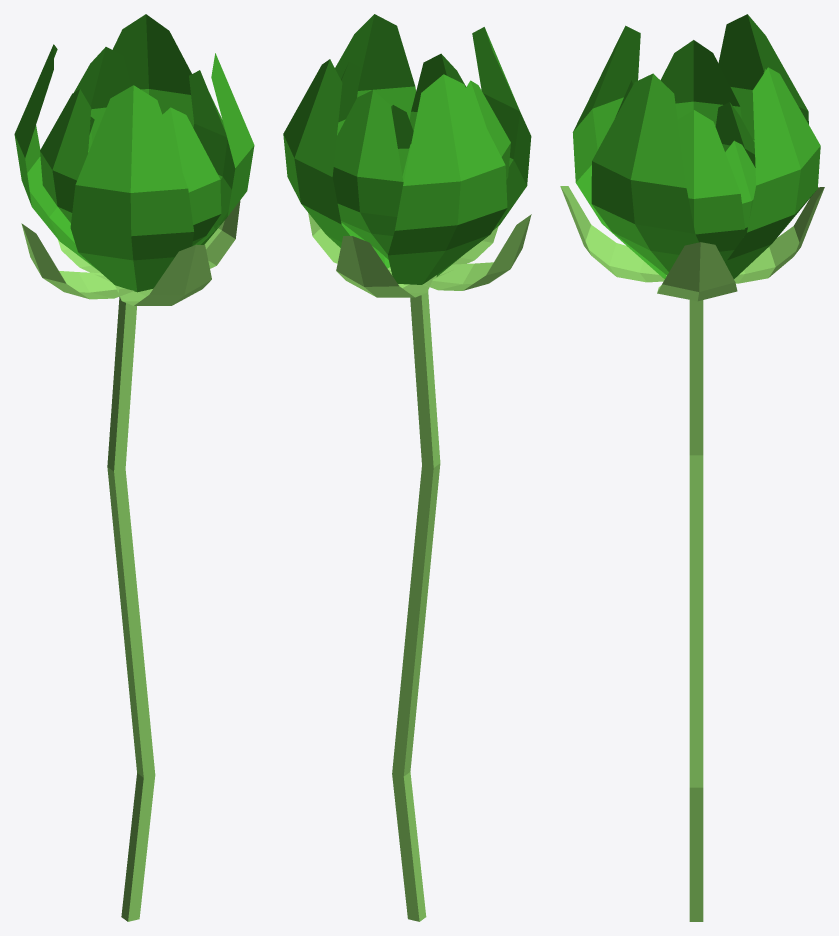
File: FlorVerde.fbx
The picture shows the model from 3 angles, left to right: view 1: azimuth 30°, elevation 25°; view 2: azimuth 150°, elevation 25°; view 3: azimuth 270°, elevation 25°; orthographic projection.
Visible parts, largest first — view 1: Cube; view 2: Cube; view 3: Cube.
Boxes of the visible parts, x1,y1,x2,y2 form: Cube: (14, 14, 254, 921); Cube: (283, 14, 531, 921); Cube: (560, 14, 824, 921).
Size of the model in its own units: 252 by 934 by 255.
